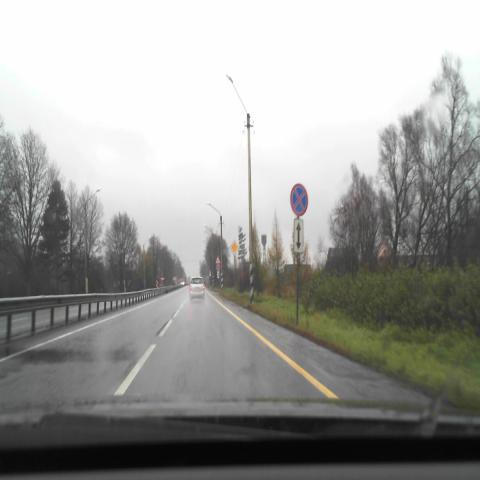8_2_4: (294, 218, 303, 253)
